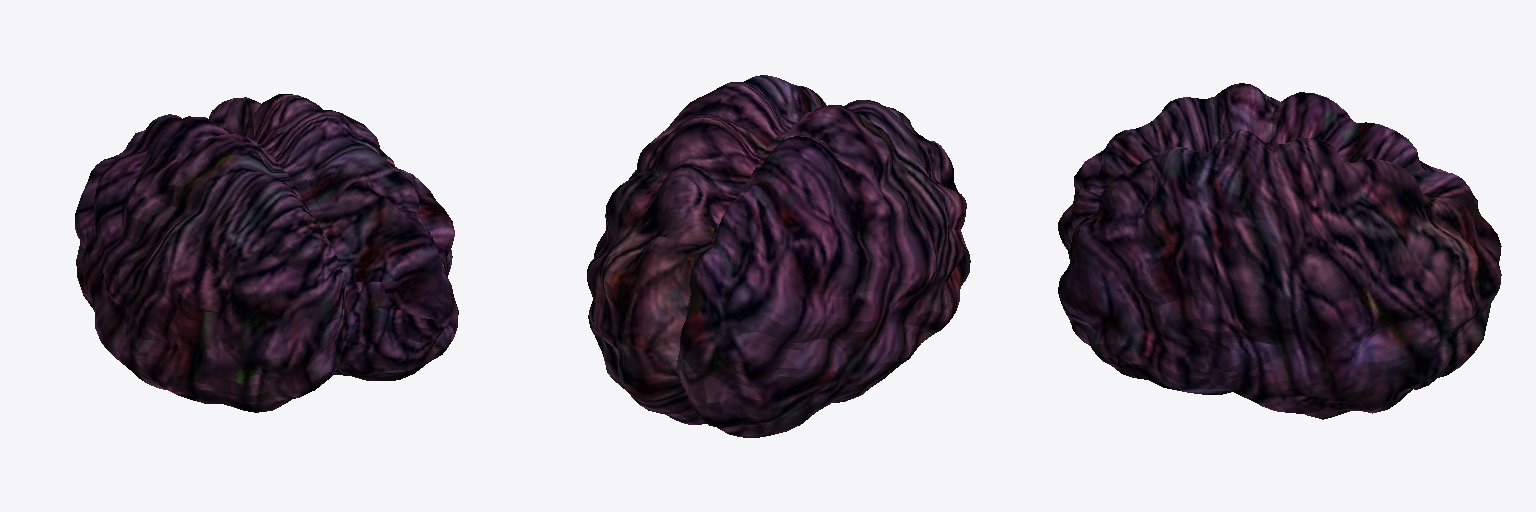
3 views of the same model, side by side, from view 1: azimuth 30°, elevation 25°; view 2: azimuth 150°, elevation 25°; view 3: azimuth 270°, elevation 25° (orthographic).
Visible parts, largest first — view 1: ZBrush_defualt_group; view 2: ZBrush_defualt_group; view 3: ZBrush_defualt_group.
Part boxes in pixels (left/top/right/bottom): ZBrush_defualt_group: left=75, top=94, right=458, bottom=412; ZBrush_defualt_group: left=587, top=75, right=970, bottom=437; ZBrush_defualt_group: left=1058, top=83, right=1501, bottom=419.
Size of the model in its own units: 1.24 by 1.11 by 1.54.
Materials: 1 (1 with a texture image).